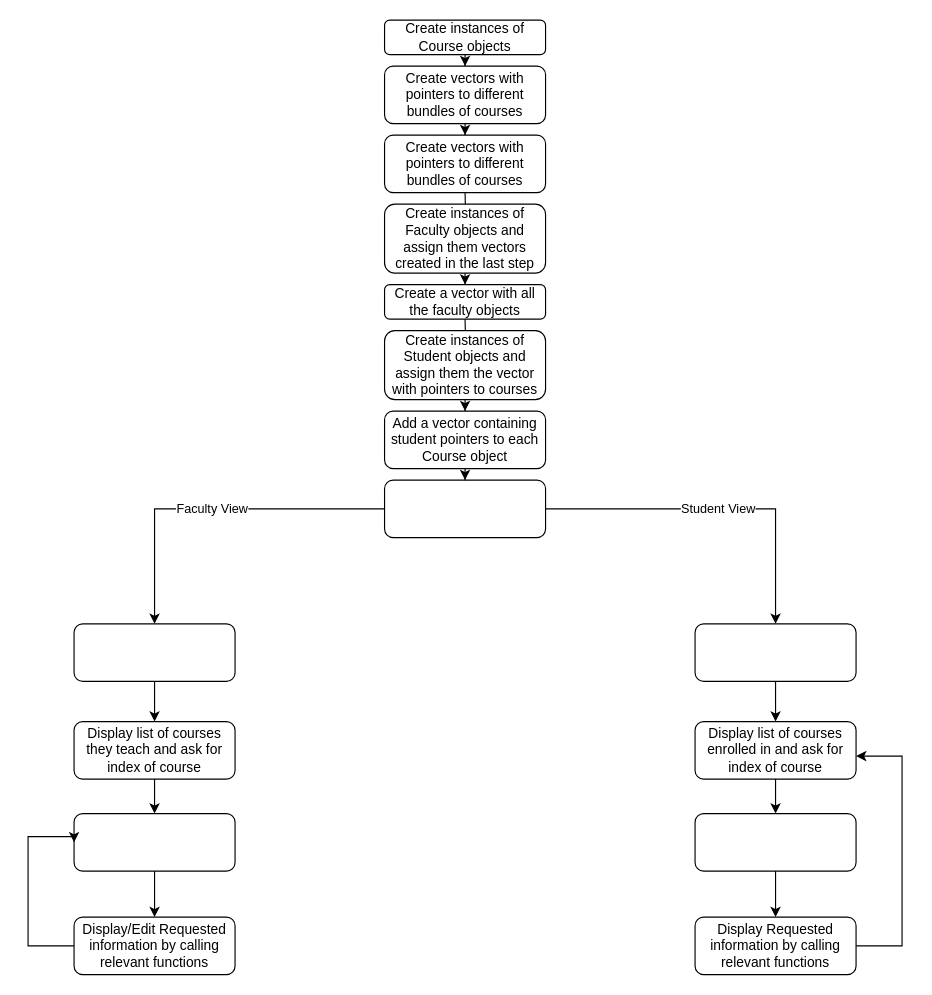
The diagram is 932 pixels wide and 995 high, and some of its shapes have lost their labels. Each missing label, with the centre of its shape:
"Ask the User if they would want to see the Faculty or Student view" belongs at (464,508).
"Ask User what information they would like to see" belongs at (775,841).
"Ask User what information they would like to see/edit" belongs at (154,841).
"Print the list of faculty and ask user to select the index next to their name" belongs at (154,652).
"Print the list of students and ask user to select the index next to their name" belongs at (775,652).
